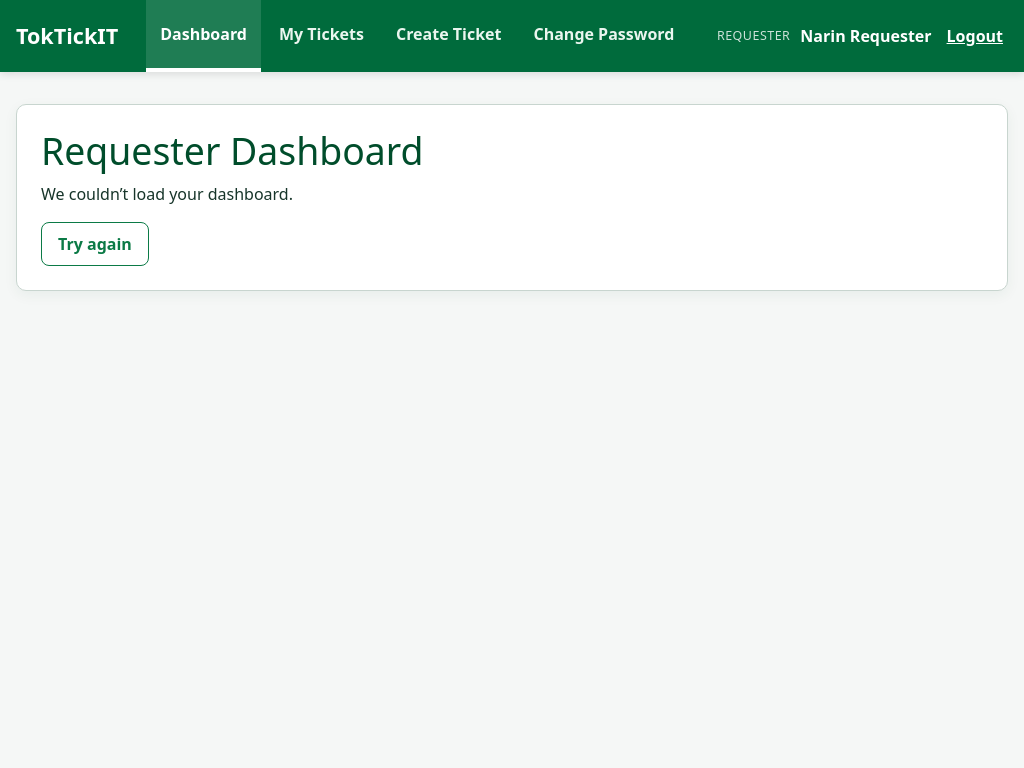
Test: Requester Dashboard › shows a retry path for safe API failures
expect the message shows "couldn’t load your dashboard": met, box [41,183,293,205]
Click the button "Try again": (95, 244) [41,222,149,266]
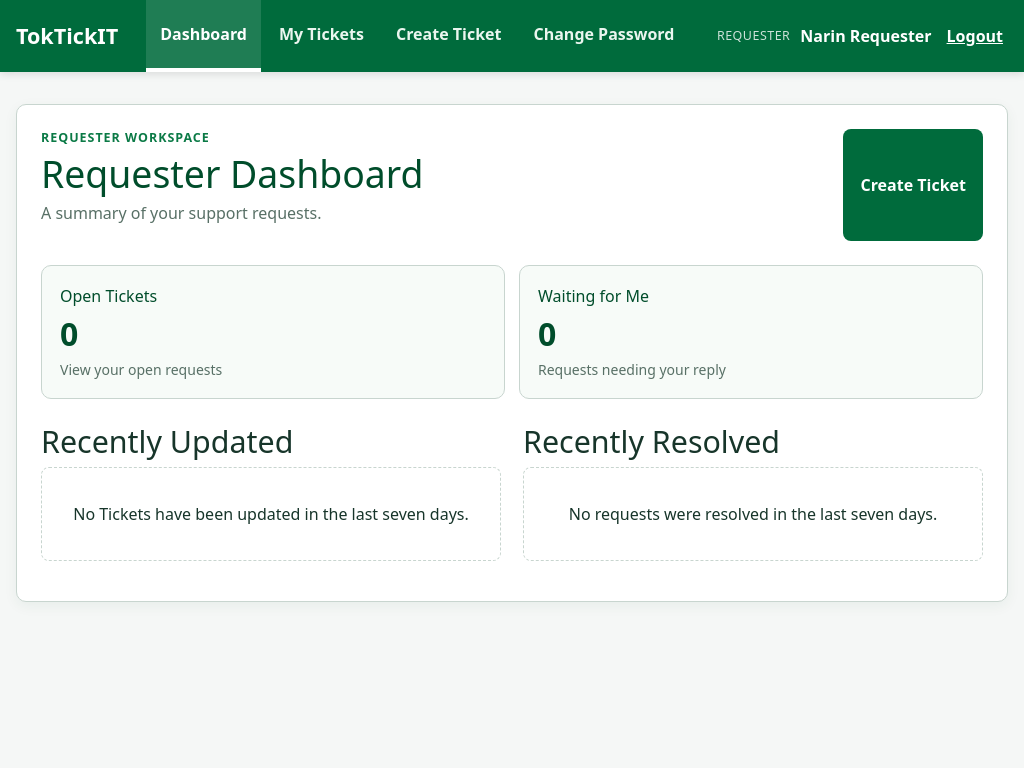
expect the text "No Tickets have been updated in the last seven days." is shown: met, box [41,467,501,561]
